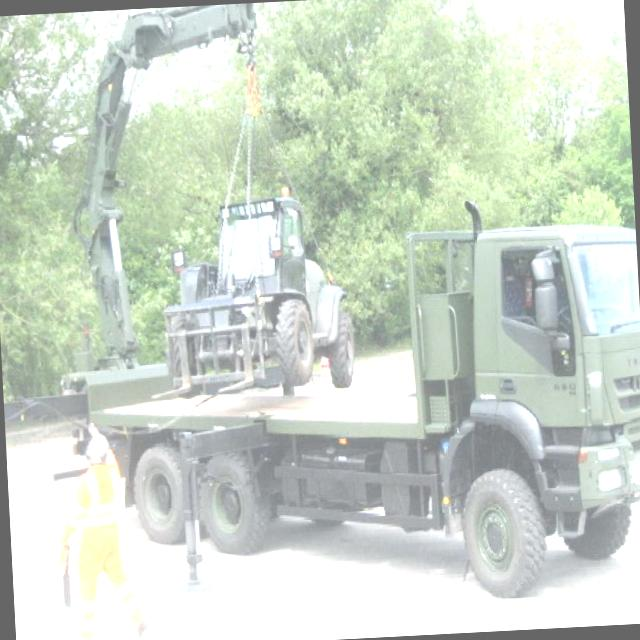Vehicle: (28, 0, 640, 619)
